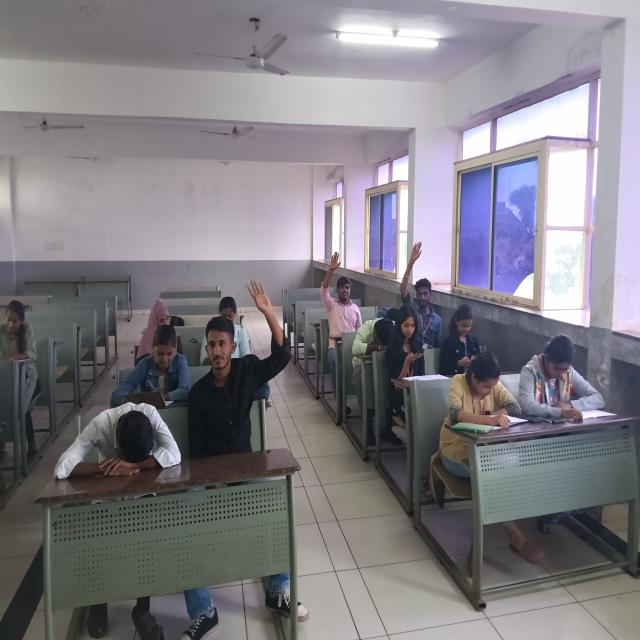Hand Rising: (192, 267, 290, 455), (397, 235, 441, 334), (318, 248, 360, 350)
Reading: (509, 333, 603, 426), (439, 350, 522, 438)
Sleeping: (50, 395, 184, 483), (351, 312, 402, 360)
Using Phone: (435, 303, 493, 369), (386, 306, 434, 381)
Writing: (108, 322, 197, 413)
